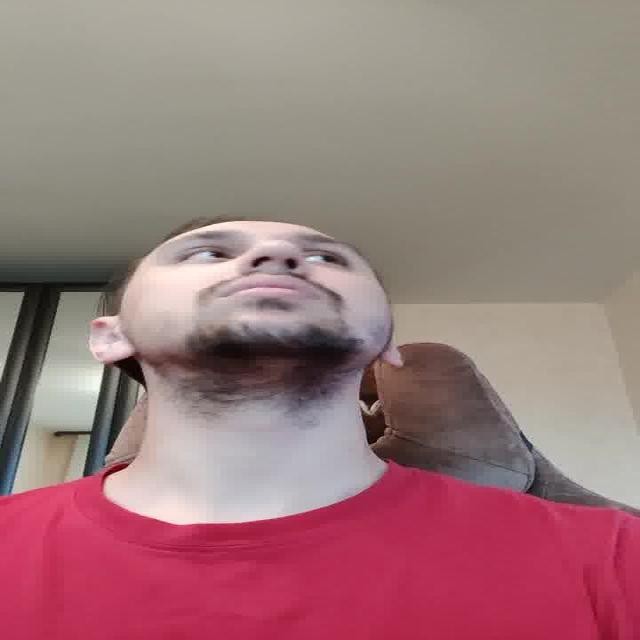earlobe: (380, 350, 407, 371), (99, 349, 136, 363)
eye: (176, 245, 235, 266), (306, 251, 353, 268)
nose: (240, 257, 302, 277)
wholeear: (90, 316, 135, 364)
